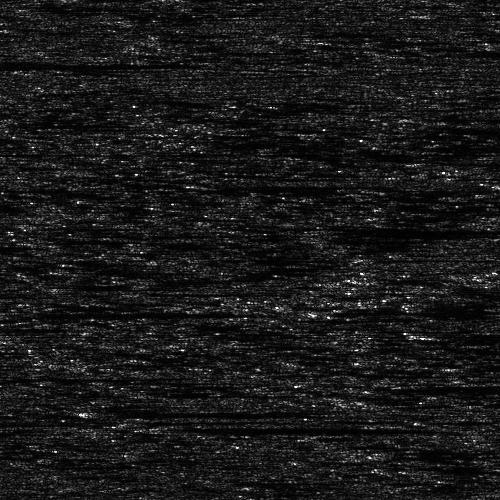rock: (301, 227, 374, 232), (0, 308, 27, 319), (481, 190, 500, 201), (176, 181, 207, 186), (409, 332, 440, 337), (0, 119, 27, 124), (398, 115, 439, 118)
shadow: (0, 308, 212, 319), (192, 181, 378, 186), (338, 227, 500, 232), (7, 119, 122, 124), (425, 332, 500, 337), (419, 115, 500, 118)
